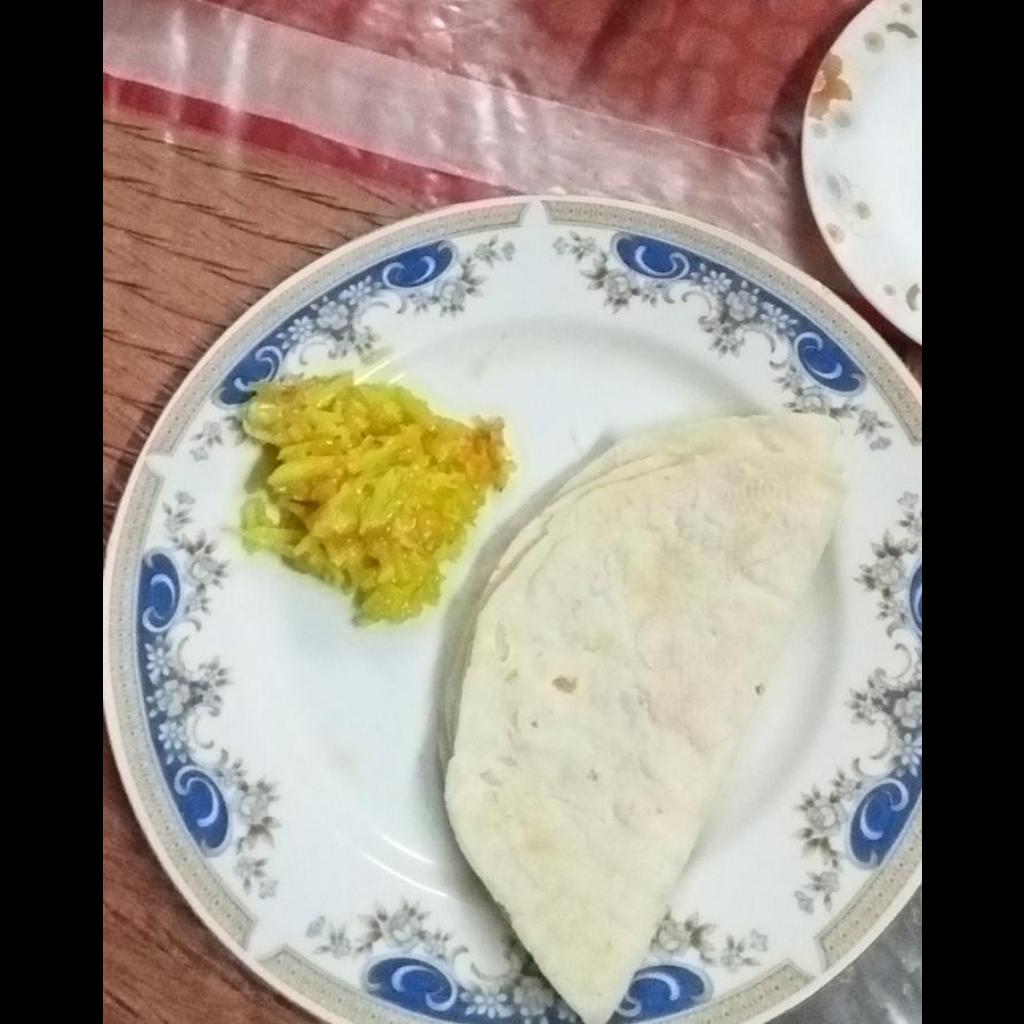ruti: (436, 411, 844, 1022)
vegetable: (230, 375, 513, 629)
